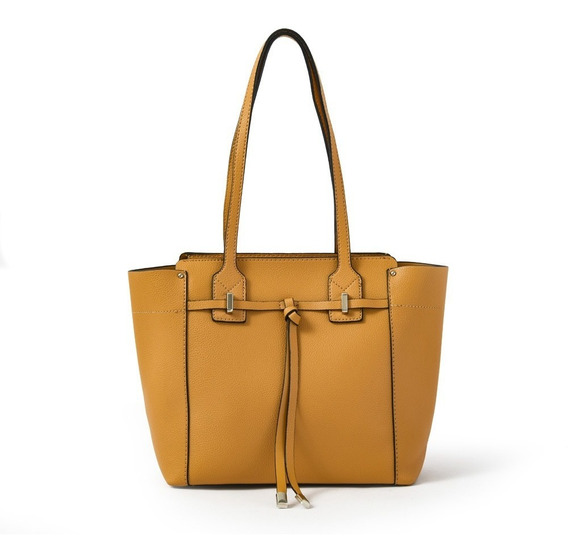cartera: (126, 27, 448, 511)
